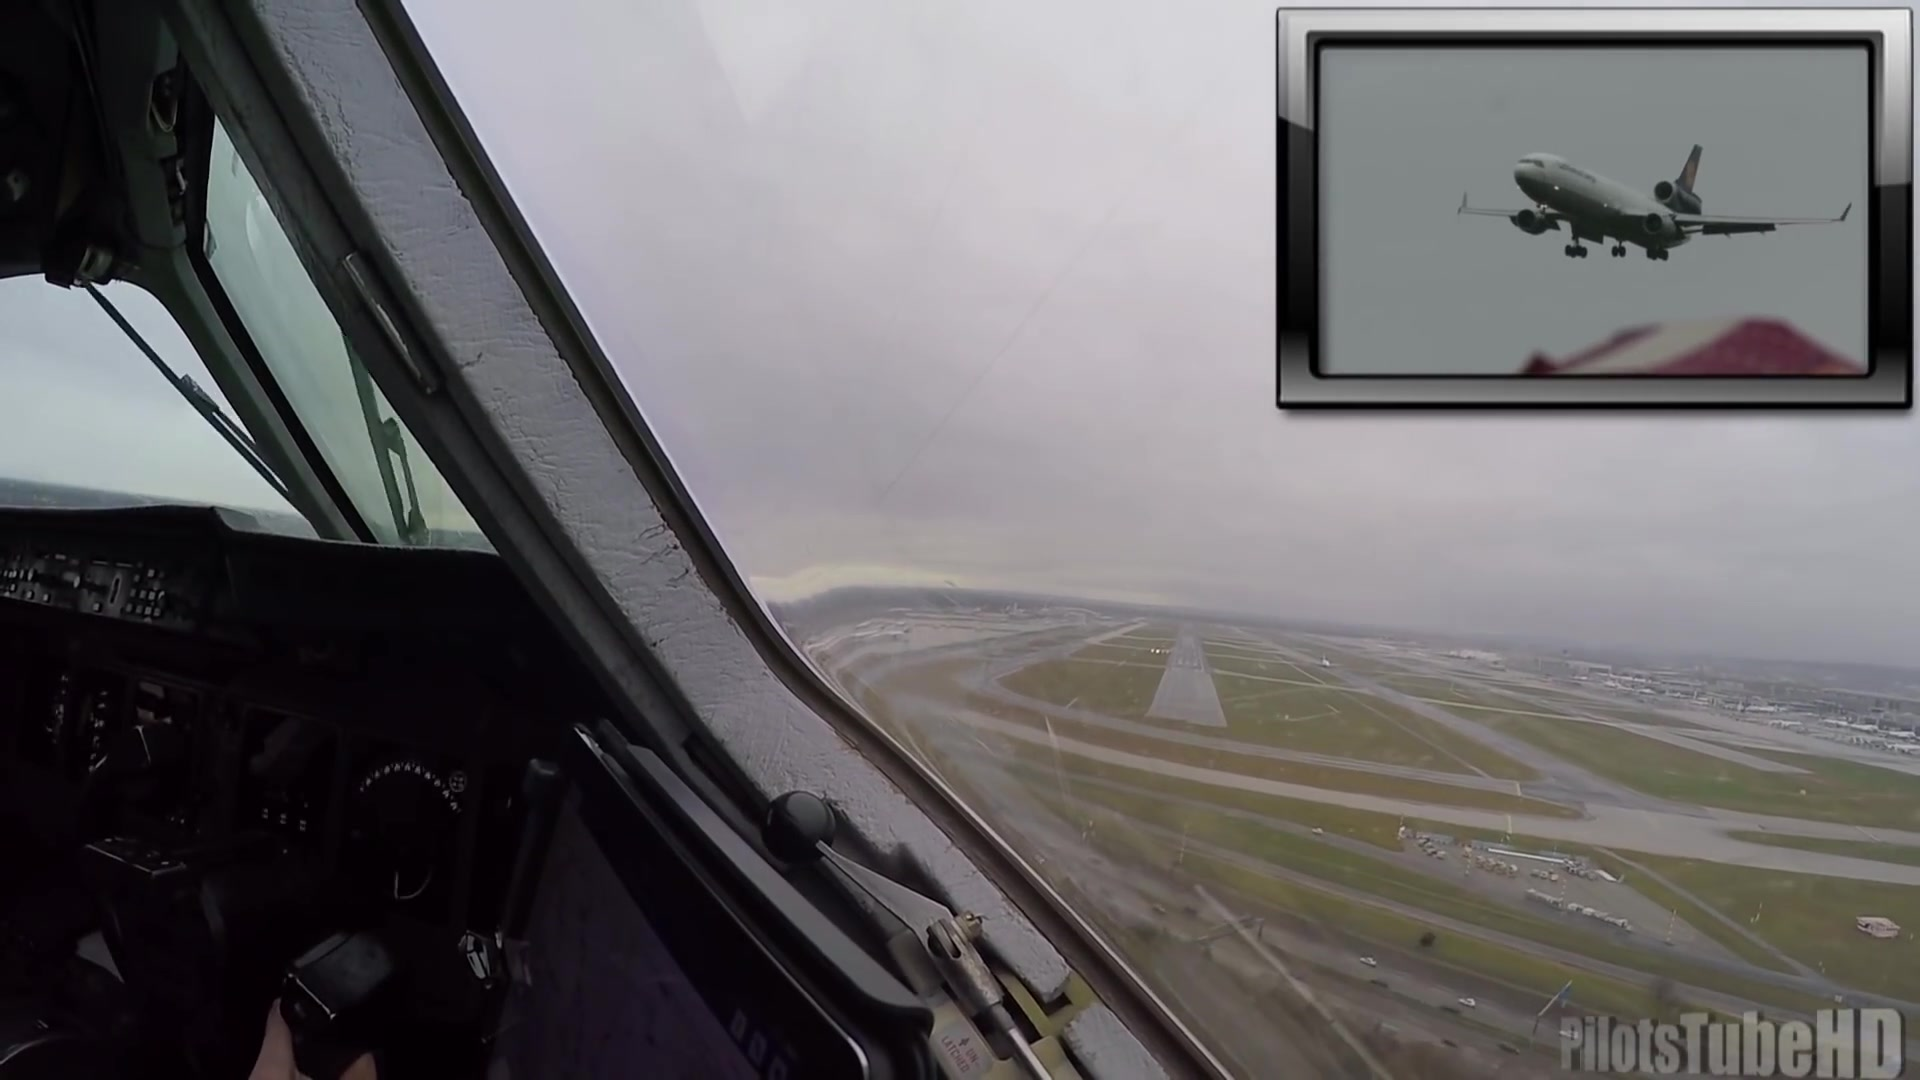runway: (1143, 630, 1226, 727)
